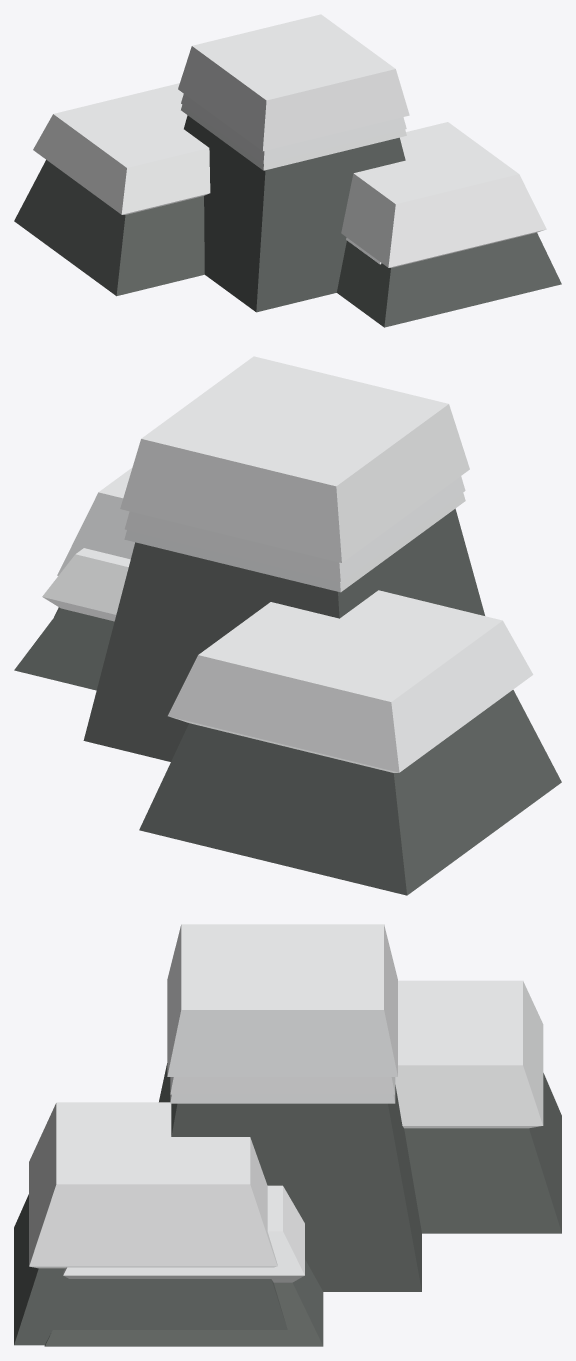
File: stones.glb
3 views of the same model, one above another, from view 1: azimuth 30°, elevation 25°; view 2: azimuth 150°, elevation 25°; view 3: azimuth 270°, elevation 25° (orthographic). The views are drawn at different scales.
Parts seen in each view (by area): view 1: Mesh_Stone_Triple, Mesh_Stone_Double, Mesh_Stone; view 2: Mesh_Stone_Triple, Mesh_Stone_Double, Mesh_Stone; view 3: Mesh_Stone_Triple, Mesh_Stone_Double, Mesh_Stone.
Boxes of the visible parts, x1=… form: Mesh_Stone_Triple: x1=14, y1=14, x2=409, y2=311; Mesh_Stone_Double: x1=181, y1=105, x2=561, y2=327; Mesh_Stone: x1=181, y1=94, x2=406, y2=310; Mesh_Stone_Triple: x1=14, y1=356, x2=561, y2=895; Mesh_Stone_Double: x1=54, y1=467, x2=484, y2=761; Mesh_Stone: x1=84, y1=476, x2=484, y2=760; Mesh_Stone_Triple: x1=44, y1=924, x2=561, y2=1346; Mesh_Stone_Double: x1=14, y1=1077, x2=421, y2=1345; Mesh_Stone: x1=170, y1=1077, x2=421, y2=1286.
Size of the model in its own units: 0.2674 by 0.1436 by 0.2682.
1 material, 1 textured.
